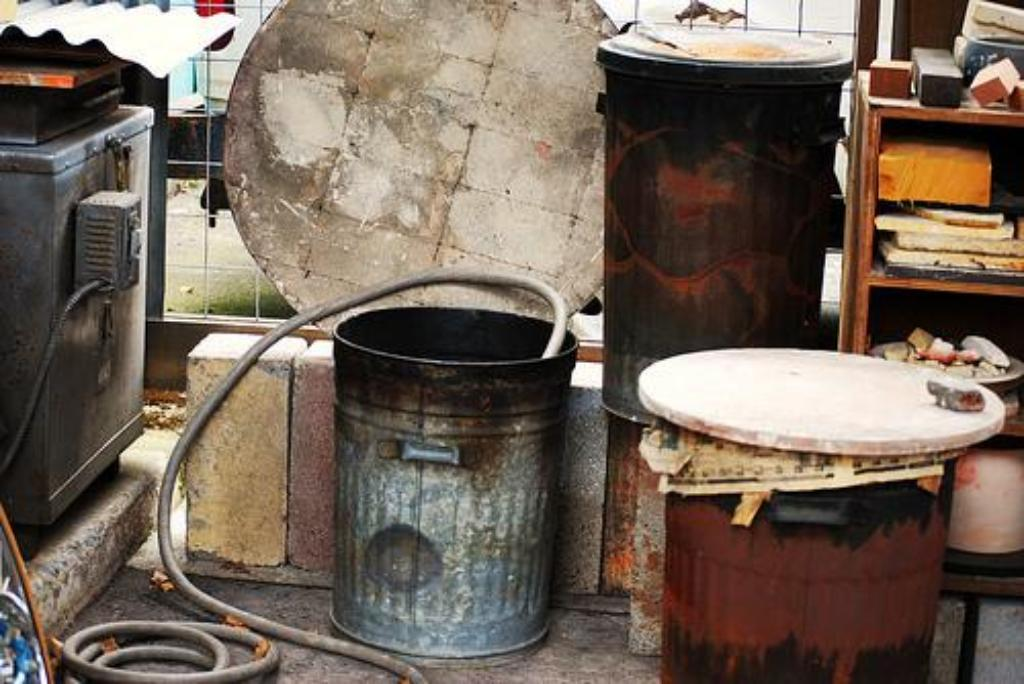dustbin: (323, 288, 587, 673)
